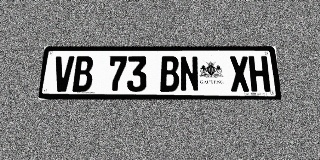3: (127, 56, 147, 92)
7: (107, 56, 127, 92)
B: (72, 56, 94, 92), (160, 56, 179, 92)
H: (248, 56, 271, 92)
N: (179, 56, 199, 92)
V: (52, 56, 74, 92)
X: (229, 56, 250, 92)
